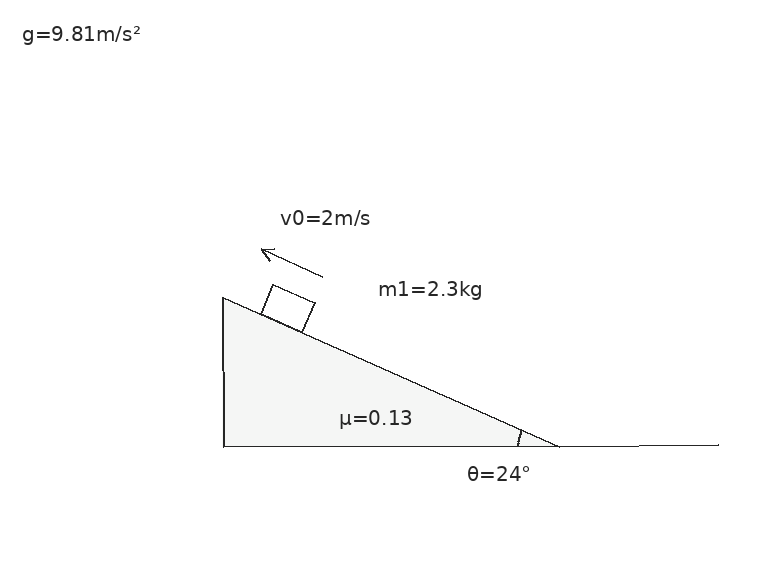block: (258, 282, 316, 333)
ramp: (221, 295, 560, 448)
